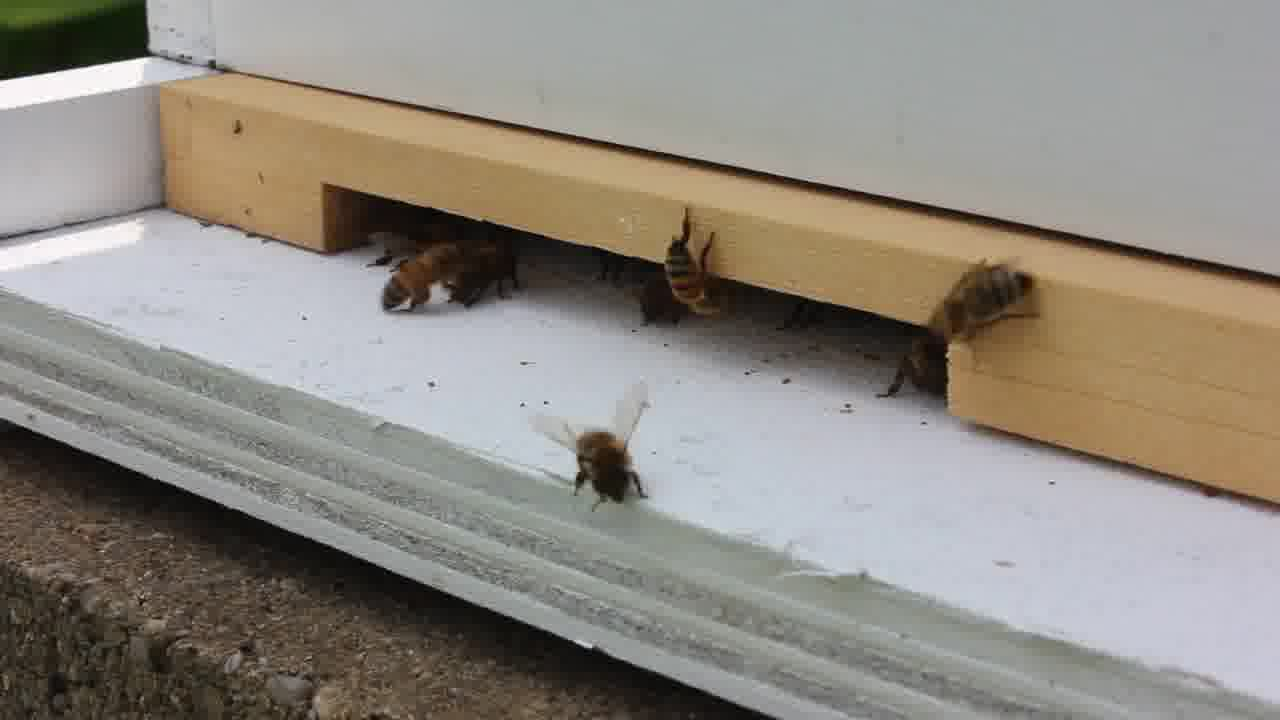pollen: (361, 234, 481, 319)
